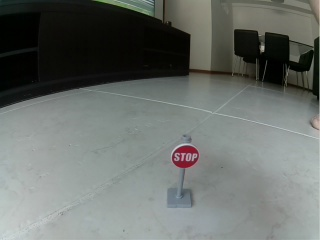Stop Sign: (171, 143, 200, 169)
